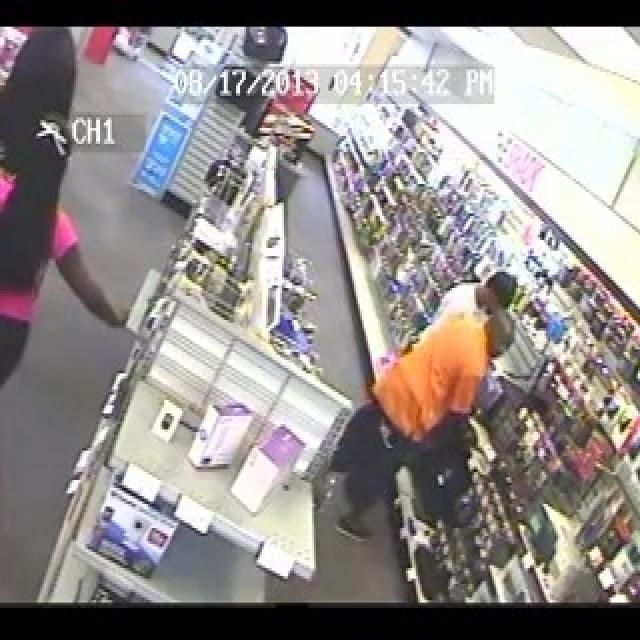Normal: (334, 254, 528, 552), (1, 107, 128, 416)
